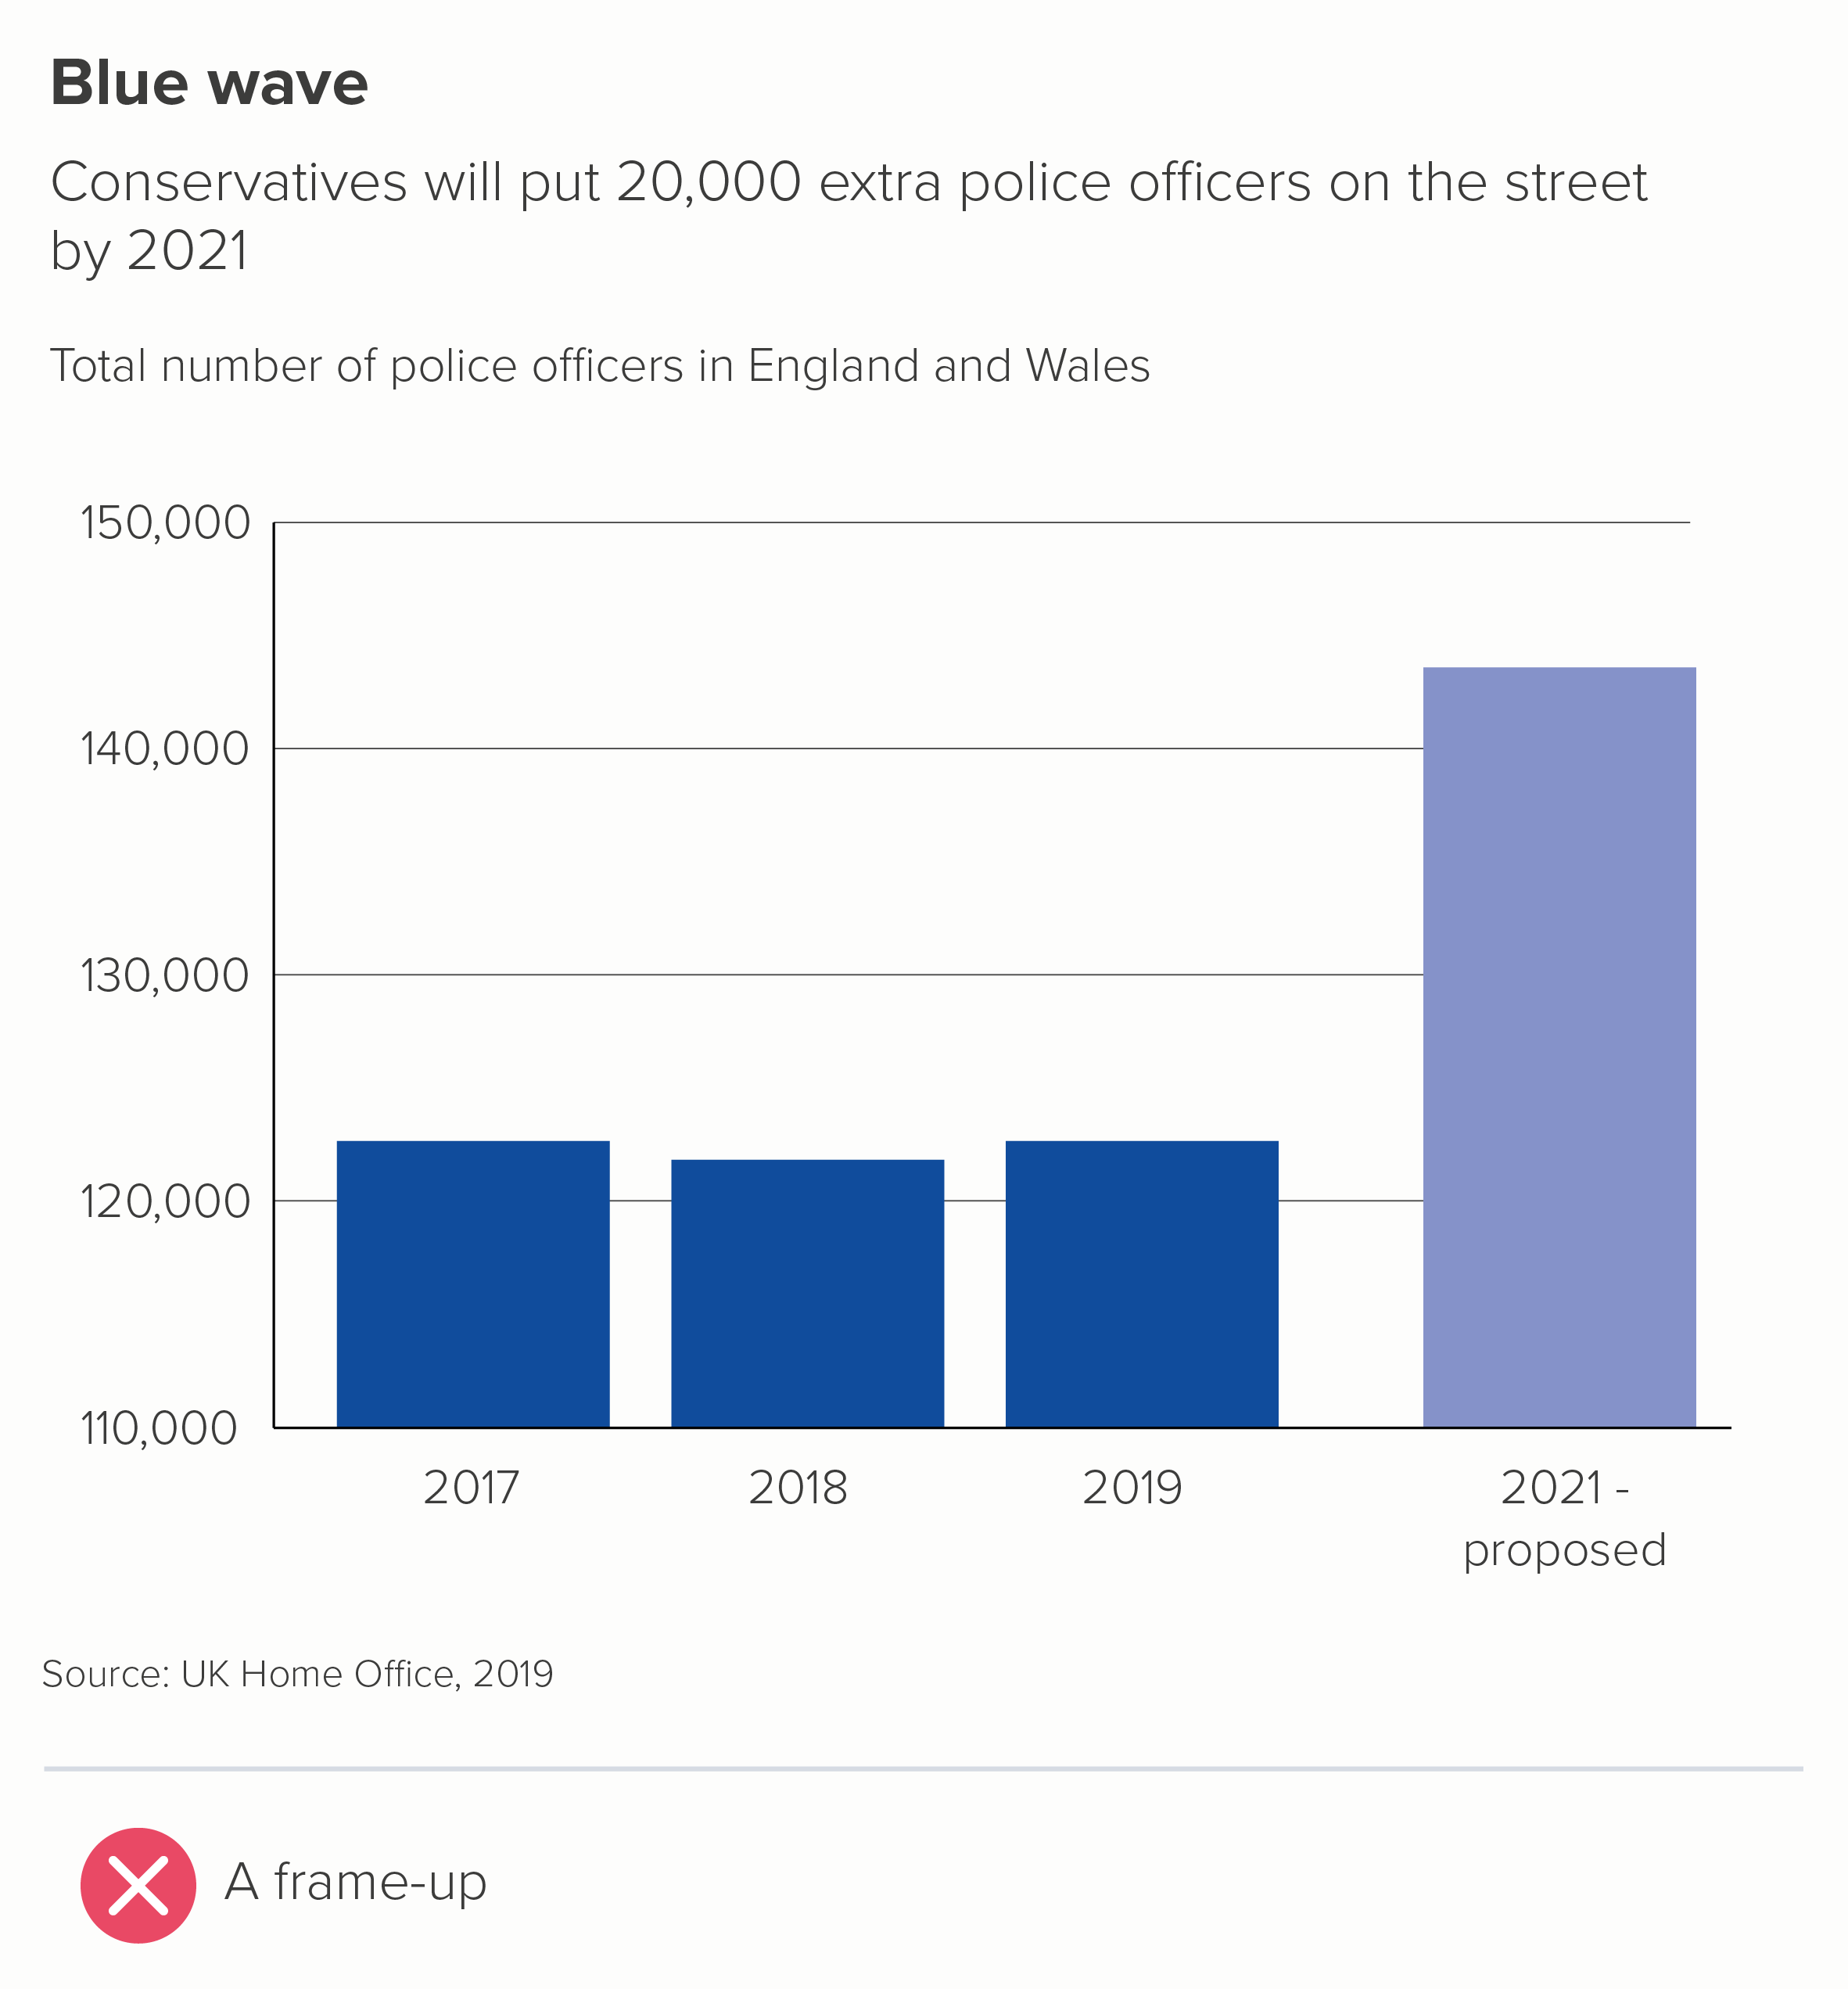S1_AxisNotZero: (52, 33, 1747, 1635)
